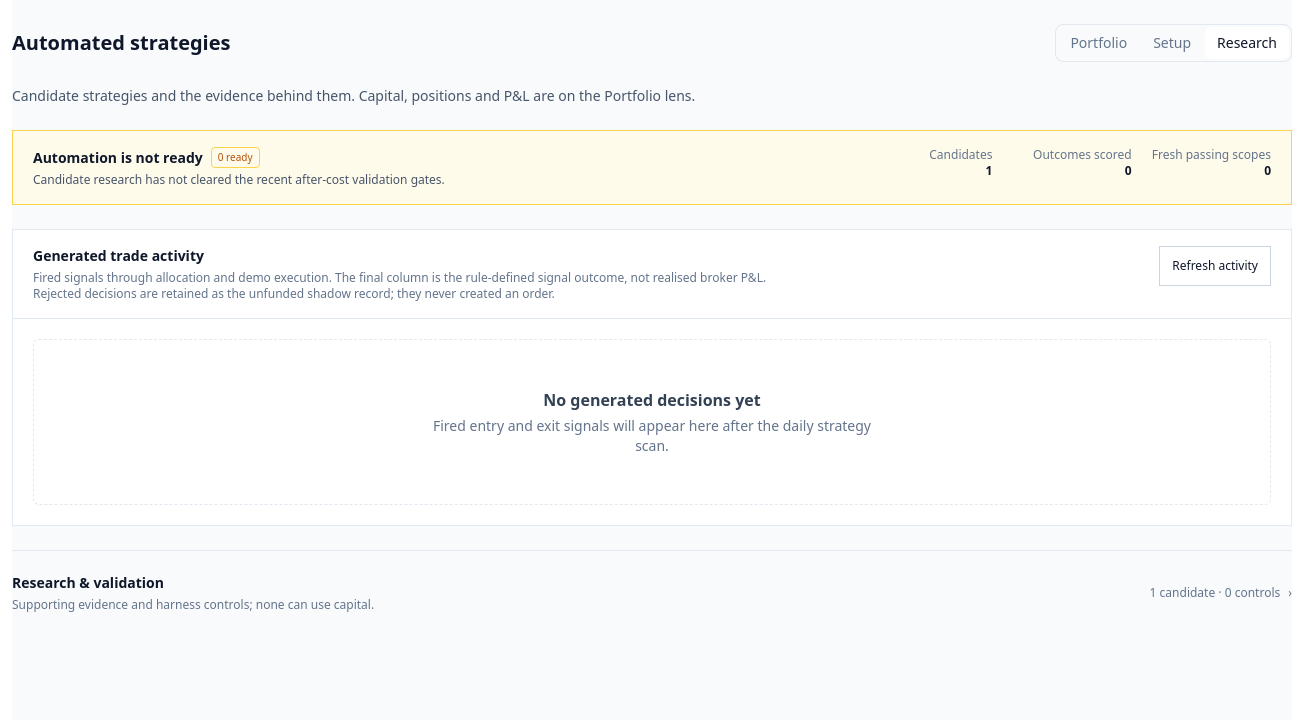
Test: StrategiesPage › separates unapproved research from selectable strategies
Expected: the heading "Automation is not ready" is shown, [33,148,203,168]
Expected: the text "Candidate research has not cleared the recent after-cost validation gates." is shown, [33,172,445,188]
Click the text "Research & validation": (88, 582) [12,573,164,592]
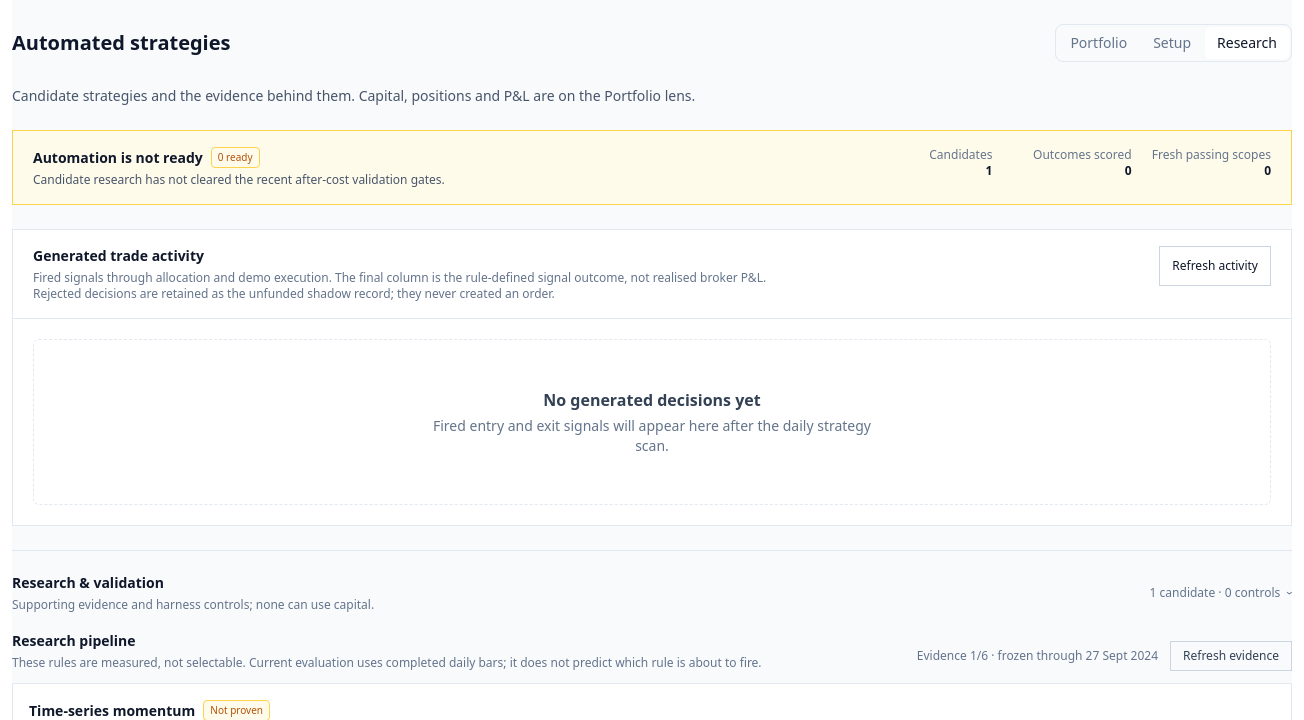
Result: the heading "Time-series momentum" is shown at [29,700,195,719]
